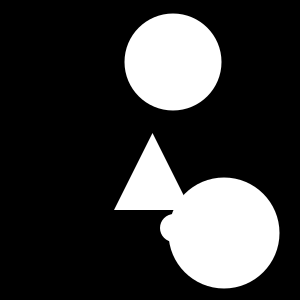rectangle: (169, 177, 280, 288), (125, 14, 222, 110), (160, 214, 188, 242)
triangle: (114, 133, 191, 210), (146, 17, 215, 86)
